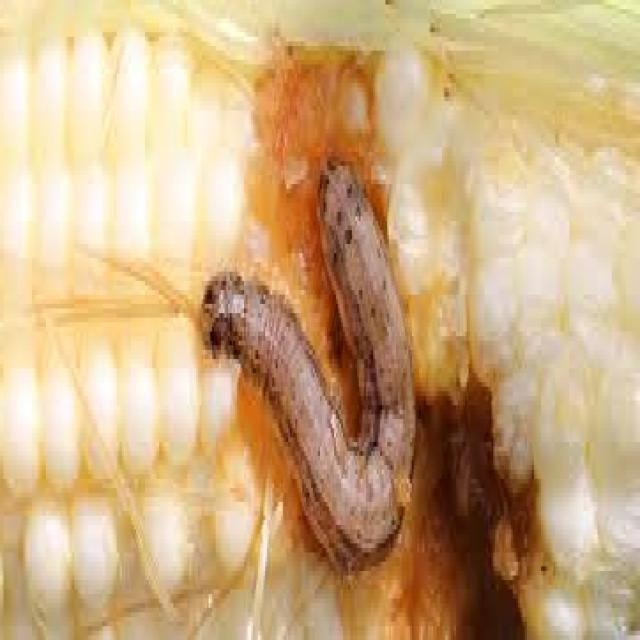armyworm: (196, 149, 419, 580)
